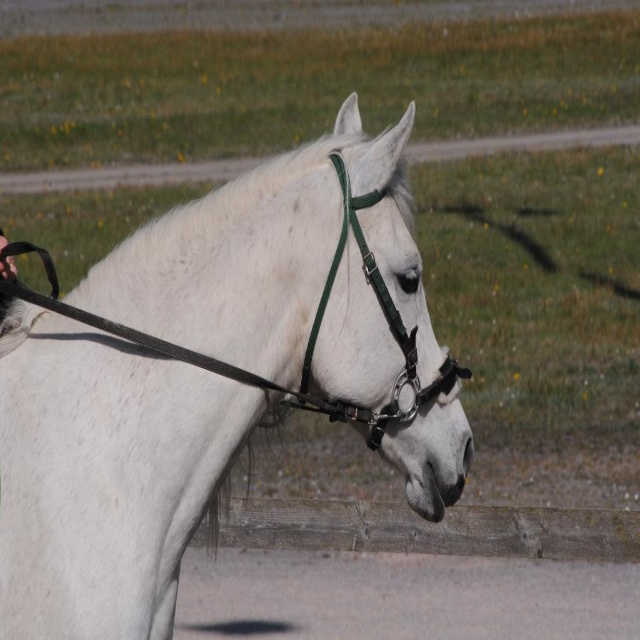Horse: (0, 91, 475, 639)
